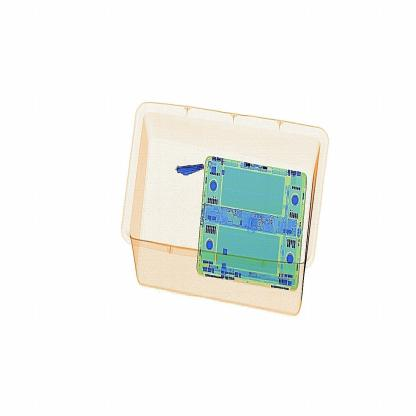knife: (170, 151, 214, 183)
